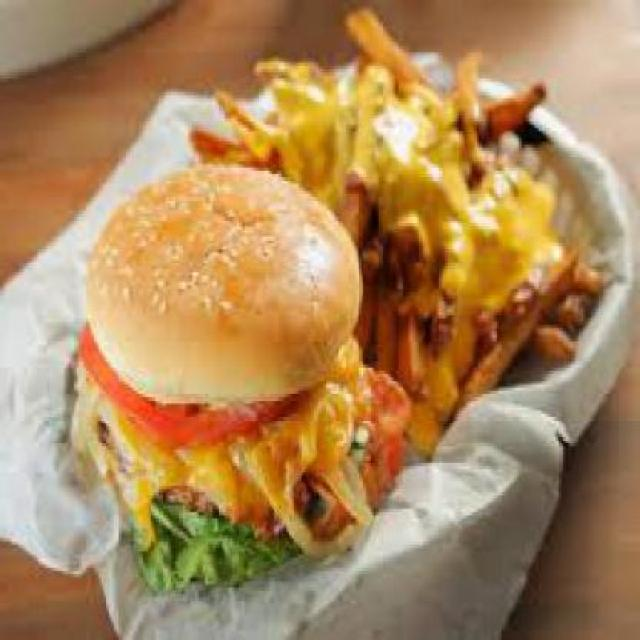french fries: (363, 6, 594, 408)
hamburger: (66, 154, 371, 588)
